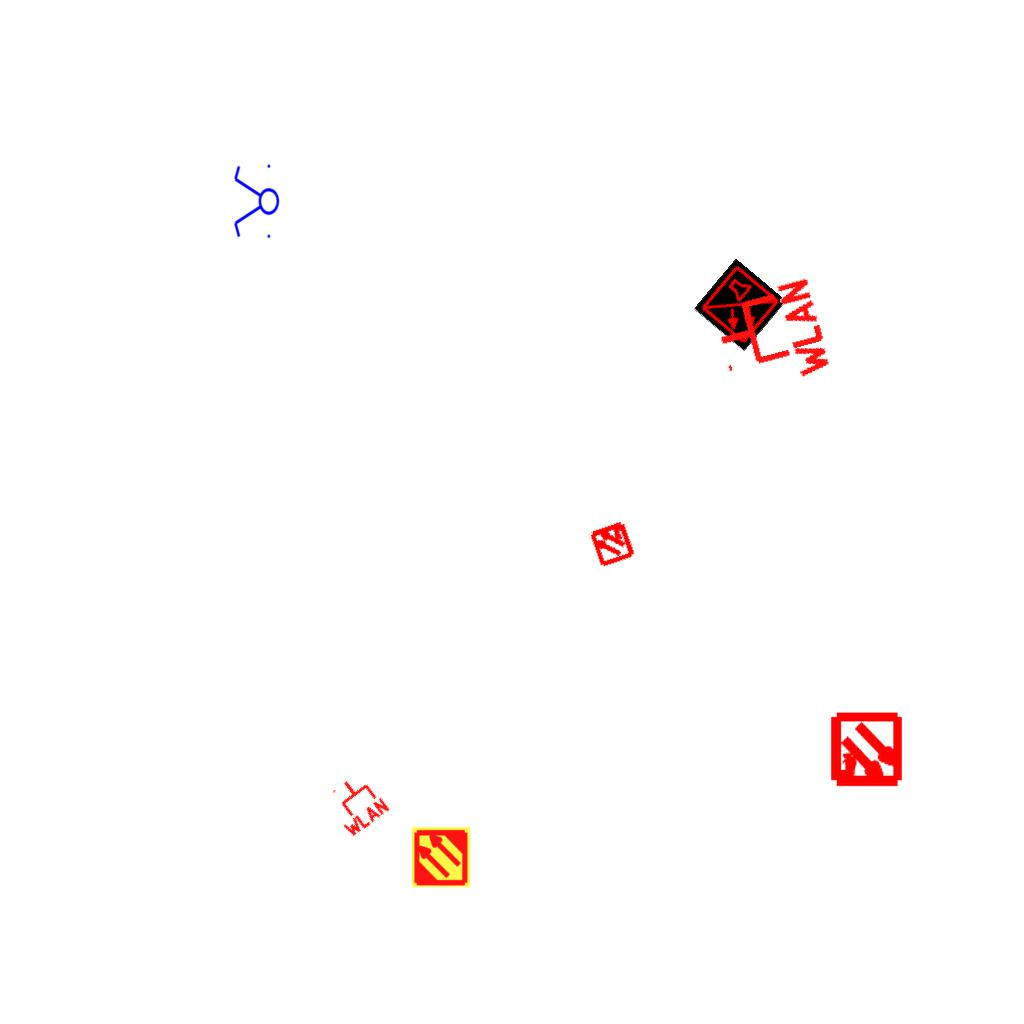ASR_Ansaugrauchmelder: (410, 826, 472, 888)
OKW_Multisensormelder_(Kombination_optischer_Rauch-Kahlenmonoxid_Waerme-Melder): (693, 258, 787, 352)
OT_Multisensormelder_(Kombination_RMO_WMD): (810, 695, 923, 808), (576, 507, 648, 579)
Serienschalter: (232, 160, 280, 244)
WLAN: (706, 273, 835, 401), (319, 767, 393, 841)
